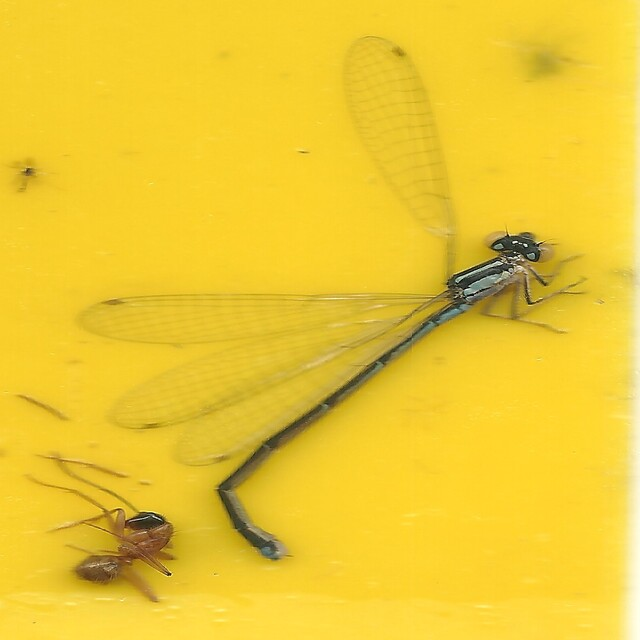Hymenoptera: (56, 505, 188, 604)
Odonata: (91, 36, 584, 561)
